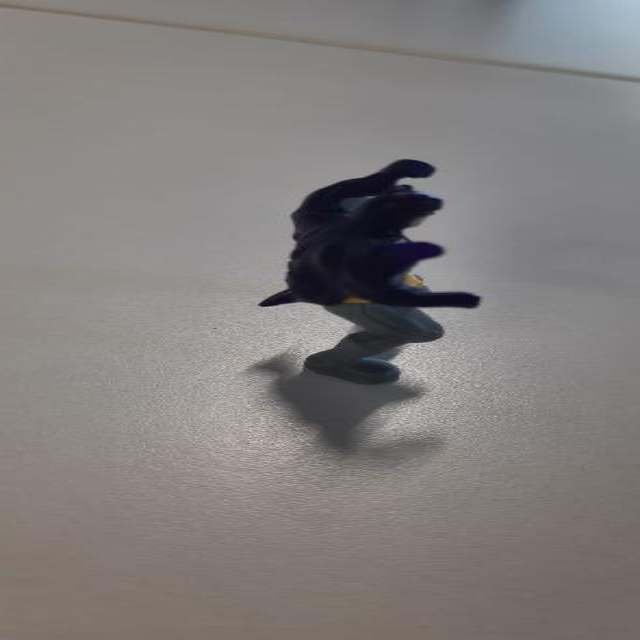Batman: (249, 152, 501, 408)
